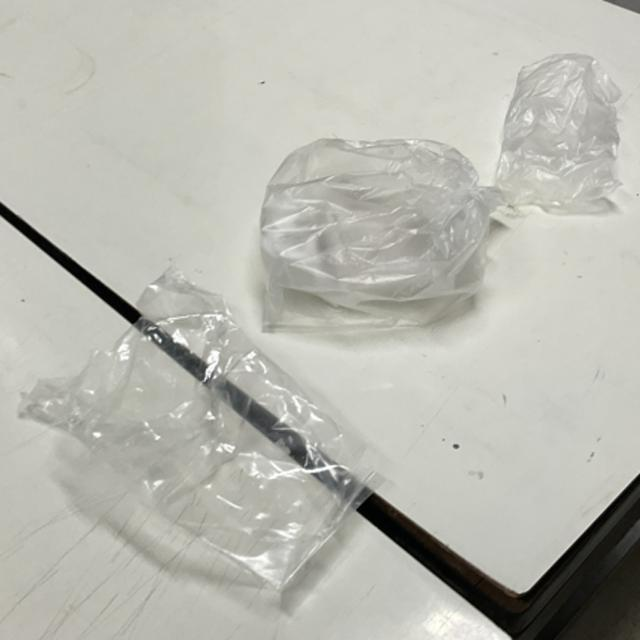Single-layer Plastic: (20, 268, 374, 589), (260, 139, 501, 330), (496, 54, 621, 209)
